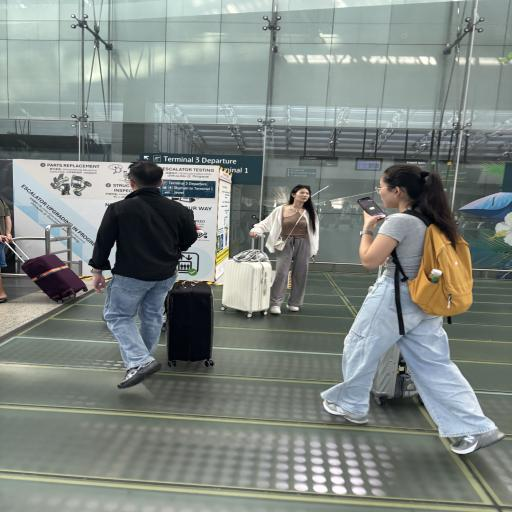person_with_luggage_left: (328, 155, 474, 444)
